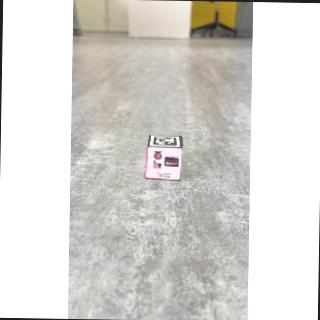Expired_Cosmetic: (147, 146, 184, 181)
